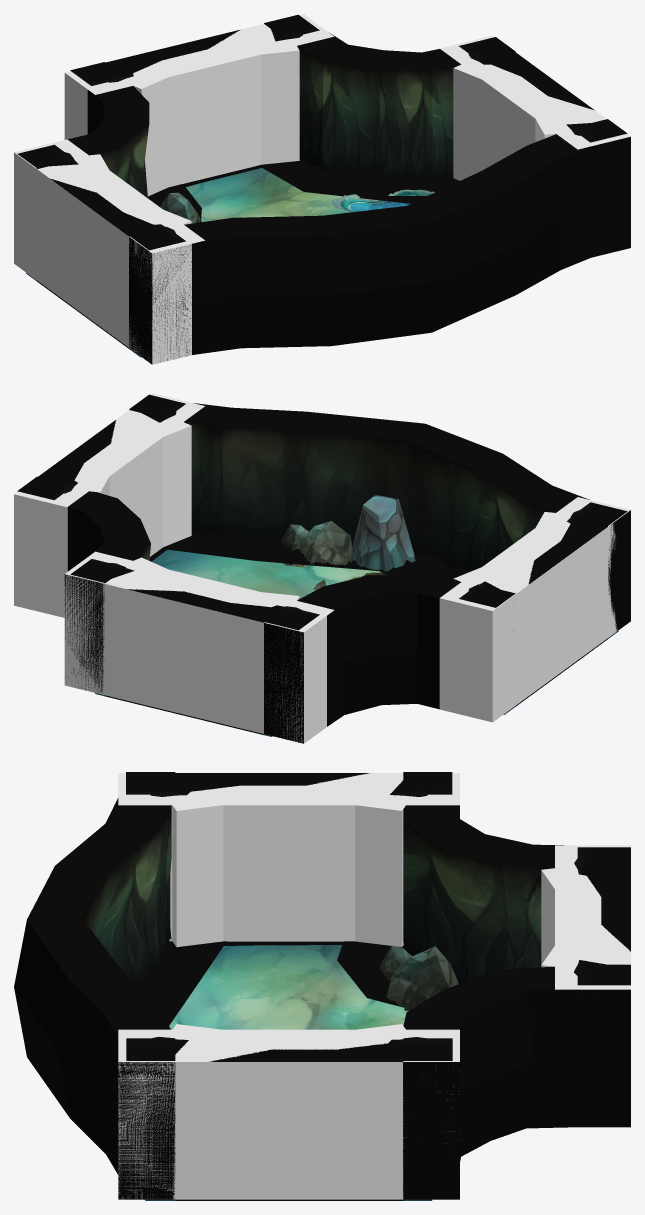
The model's file is Dungeon_073_RoadT_002.fbx.
The picture shows the model from 3 angles, top to bottom: view 1: azimuth 30°, elevation 25°; view 2: azimuth 150°, elevation 25°; view 3: azimuth 270°, elevation 25°; orthographic projection. The views are drawn at different scales.
Visible parts, largest first — view 1: Dun_073_RoadT_002_wall, DoorWay_NavMask (3) (×3), DoorWay_NavMask (1), Dun_073_Door_002 (×3), DoorWay_NavMask (4) (×3), DoorWay_NavMask (2) (×2), Dun_073_RoadT_002_ground, Dun_073_RoadT_002_shadow, Dun_073_OB_Asiato03, Dun_073_OB_Stone01; view 2: Dun_073_RoadT_002_wall, DoorWay_NavMask (3) (×3), DoorWay_NavMask (1) (×3), Dun_073_Door_002 (×3), DoorWay_NavMask (2) (×3), Dun_073_RoadT_002_ground, Dun_073_RoadT_002_shadow, Dun_073_OB_Stone02, Dun_073_OB_Stone01, DoorWay_NavMask (4) (×2); view 3: Dun_073_RoadT_002_wall, DoorWay_NavMask (3) (×3), Dun_073_Door_002 (×3), DoorWay_NavMask (1) (×2), Dun_073_RoadT_002_ground, DoorWay_NavMask (4) (×3), DoorWay_NavMask (2) (×2), Dun_073_RoadT_002_shadow, Dun_073_OB_Stone01.
Boxes of the visible parts, x1,y1,x2,y2 form: Dun_073_RoadT_002_wall: [67, 32, 630, 364]; DoorWay_NavMask (3) (×3): [14, 14, 630, 364]; DoorWay_NavMask (1): [36, 165, 171, 347]; Dun_073_Door_002 (×3): [17, 14, 627, 348]; DoorWay_NavMask (4) (×3): [121, 59, 518, 229]; DoorWay_NavMask (2) (×2): [73, 38, 299, 182]; Dun_073_RoadT_002_ground: [26, 168, 349, 357]; Dun_073_RoadT_002_shadow: [148, 158, 459, 219]; Dun_073_OB_Asiato03: [331, 189, 434, 212]; Dun_073_OB_Stone01: [160, 192, 201, 223]; Dun_073_RoadT_002_wall: [64, 403, 630, 743]; DoorWay_NavMask (3) (×3): [14, 393, 630, 743]; DoorWay_NavMask (1) (×3): [76, 410, 608, 733]; Dun_073_Door_002 (×3): [17, 394, 627, 734]; DoorWay_NavMask (2) (×3): [122, 417, 515, 586]; Dun_073_RoadT_002_ground: [95, 549, 618, 736]; Dun_073_RoadT_002_shadow: [161, 533, 468, 578]; Dun_073_OB_Stone02: [352, 494, 415, 571]; Dun_073_OB_Stone01: [281, 521, 353, 565]; DoorWay_NavMask (4) (×2): [72, 464, 299, 606]; Dun_073_RoadT_002_wall: [14, 798, 630, 1199]; DoorWay_NavMask (3) (×3): [118, 773, 630, 1199]; Dun_073_Door_002 (×3): [126, 772, 630, 1200]; DoorWay_NavMask (1) (×2): [173, 773, 404, 1199]; Dun_073_RoadT_002_ground: [145, 945, 432, 1200]; DoorWay_NavMask (4) (×3): [167, 786, 596, 1048]; DoorWay_NavMask (2) (×2): [168, 786, 410, 1048]; Dun_073_RoadT_002_shadow: [133, 941, 403, 1025]; Dun_073_OB_Stone01: [380, 945, 458, 1010].
Size of what is drawn, in the model's own units: 9 by 2.04 by 8.13.
